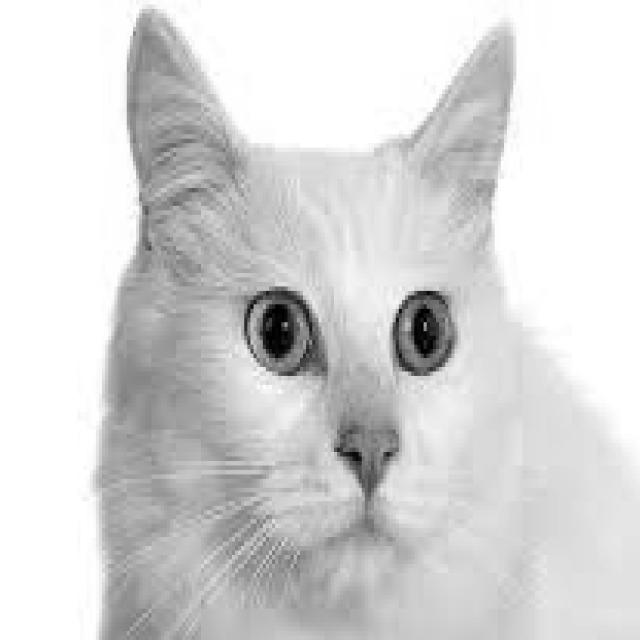van: (94, 0, 524, 623)
